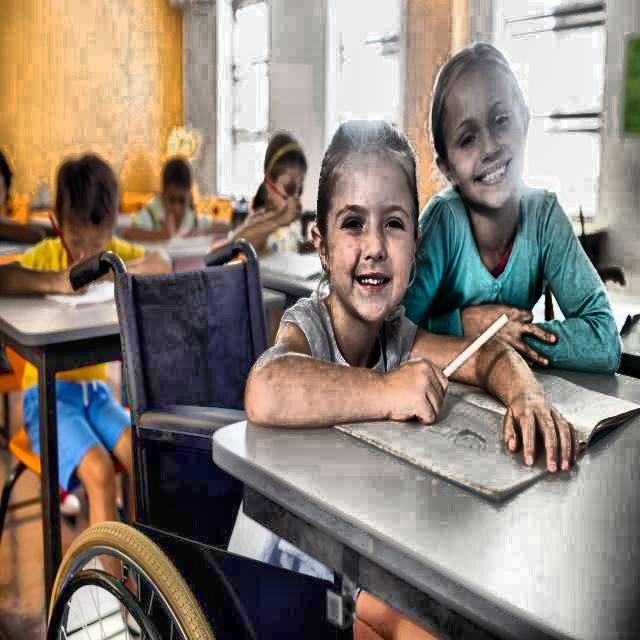person: (436, 52, 602, 370), (288, 100, 430, 408), (19, 168, 152, 278)
